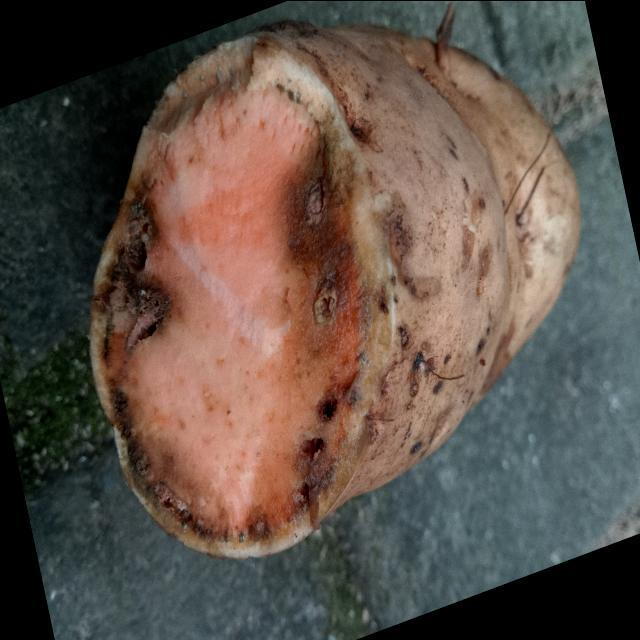Sick Sweet Potato_Tuber Rot: (90, 30, 364, 557)
